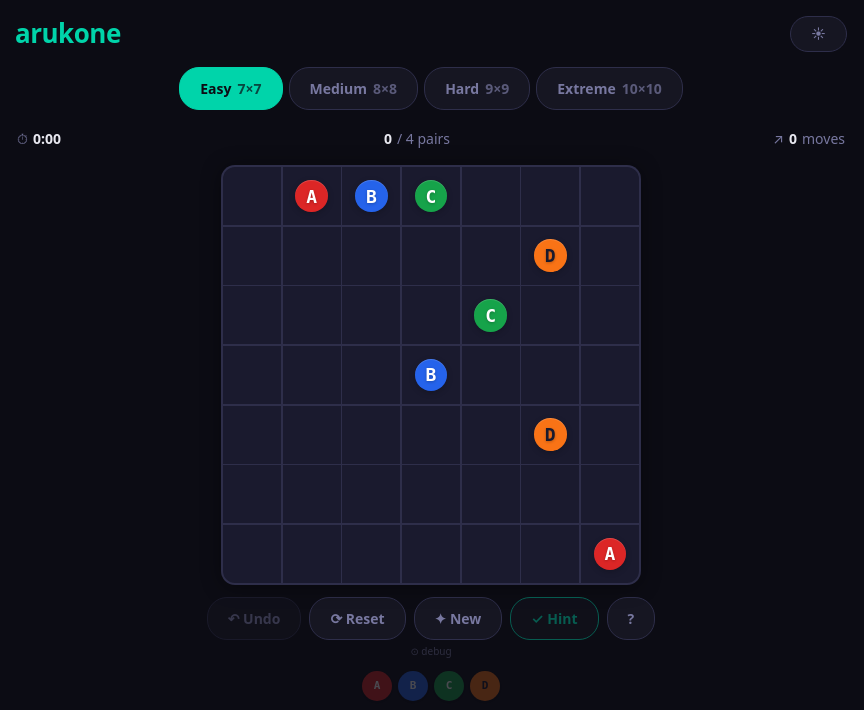
Scenario: App › switches difficulty
Step 1. Click the button "Hard 9×9" → (477, 88), box [424,67,530,110]
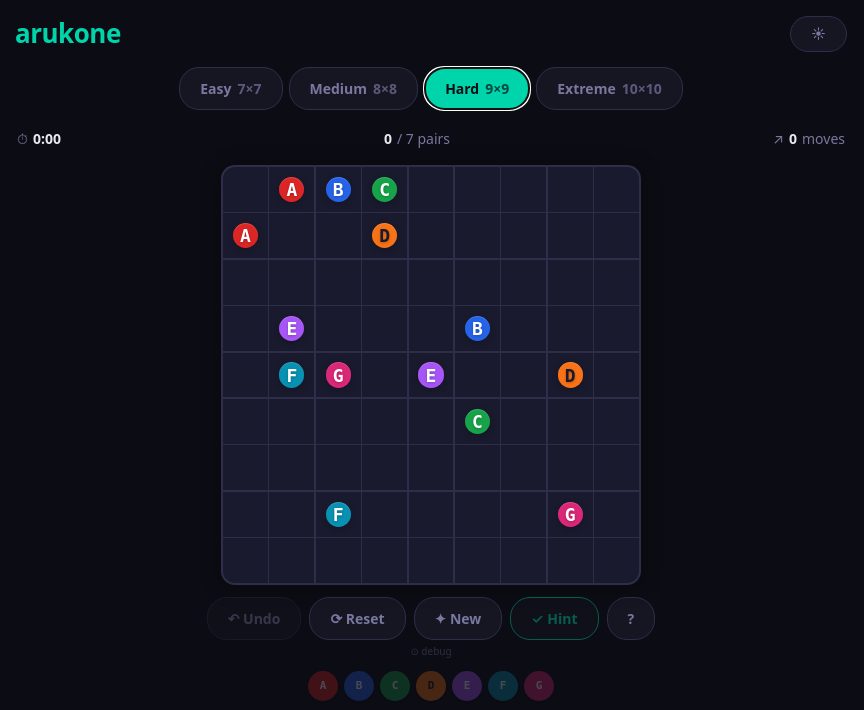
Result: the number of elements with class "cell" is 81
